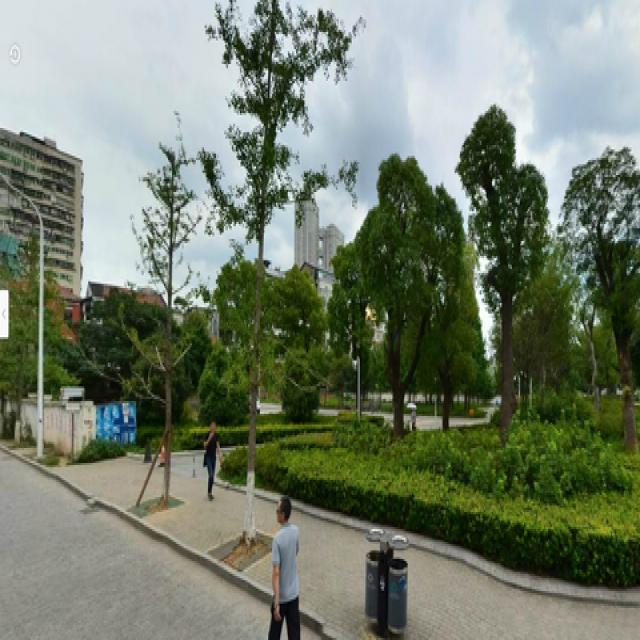gink: (210, 2, 326, 551)
